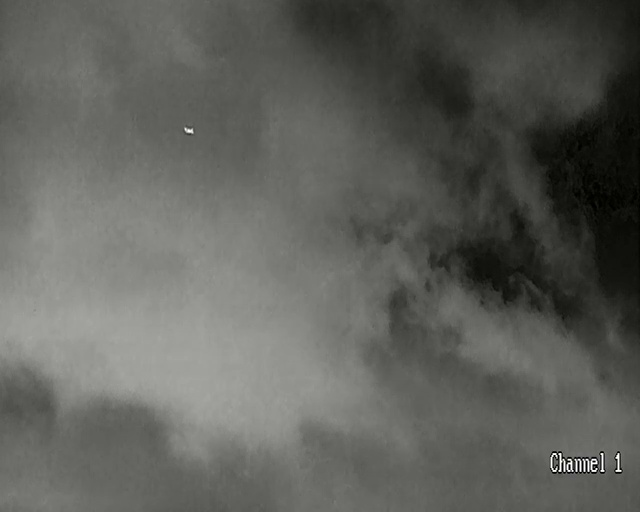uav: (182, 124, 193, 133)
